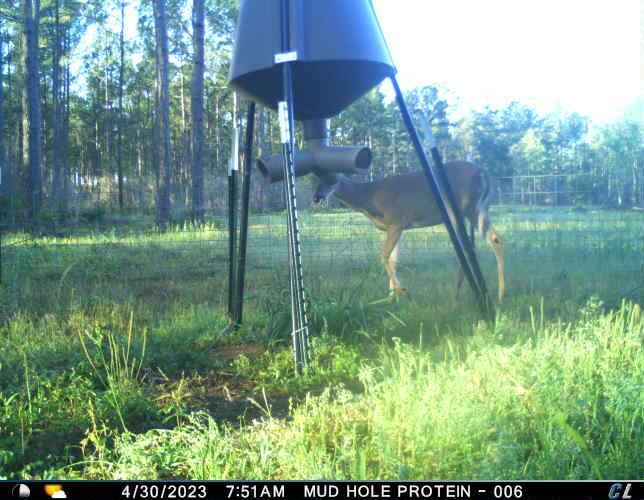Deer: (309, 156, 509, 311)
